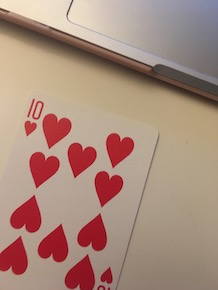TenOfHearts: (1, 91, 162, 290)
